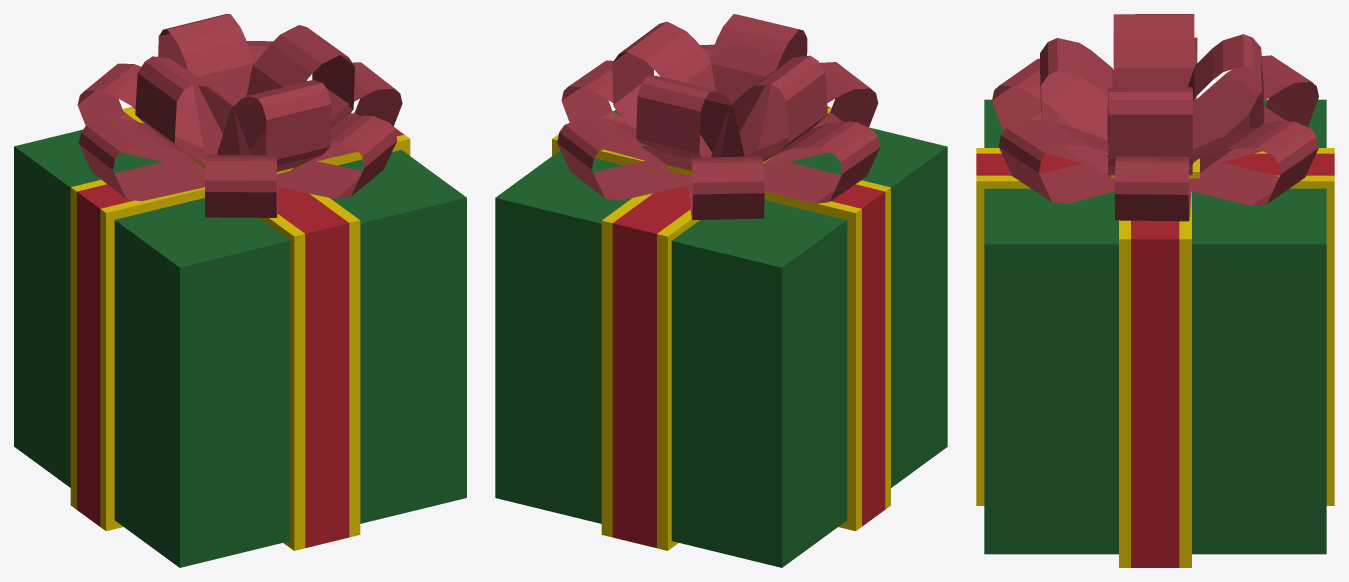
File: giftbox_green.fbx
The picture shows the model from 3 angles, left to right: view 1: azimuth 30°, elevation 25°; view 2: azimuth 150°, elevation 25°; view 3: azimuth 270°, elevation 25°; orthographic projection. The views are drawn at different scales.
Parts seen in each view (by area): view 1: Cube; view 2: Cube; view 3: Cube.
Part boxes in pixels (x1,y1,x2,y2): Cube: (14,14,466,567); Cube: (495,14,947,567); Cube: (976,14,1334,567).
Size of the model in its own units: 2.12 by 2.9 by 2.09.
